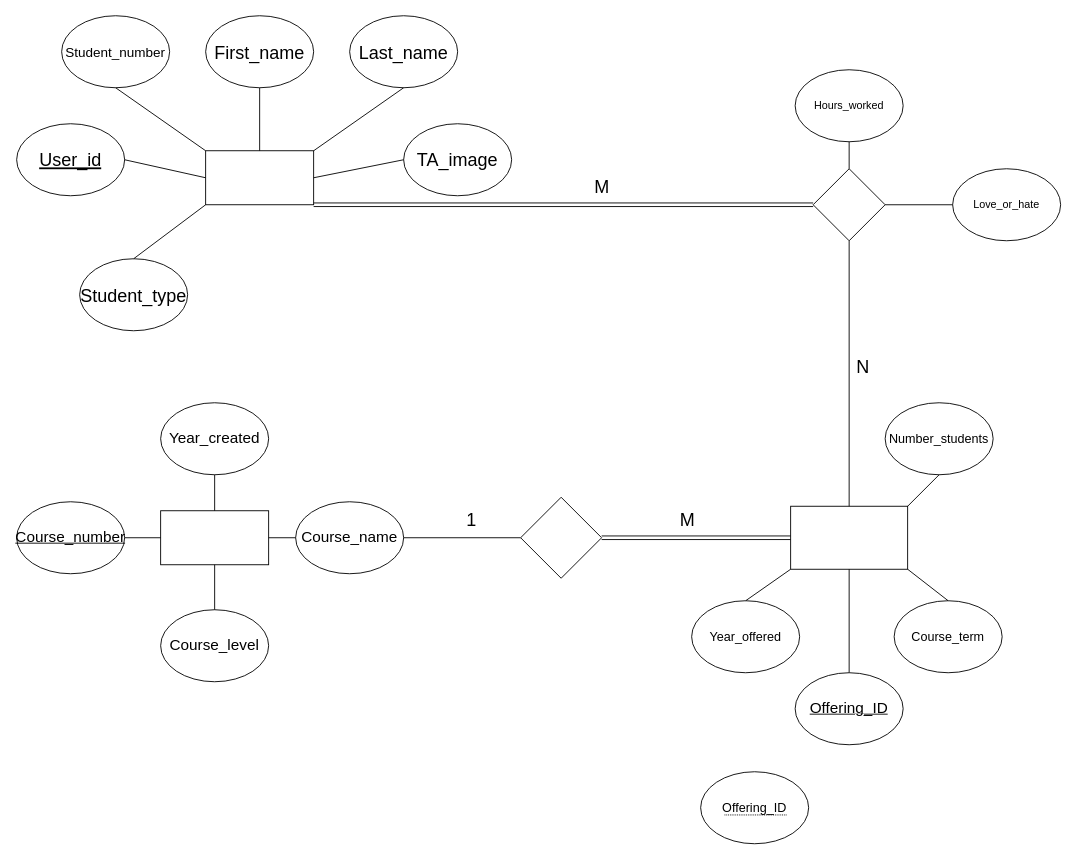
The diagram is 1076 pixels wide and 860 high, and some of its shapes have lost their labels. Each missing label, with the box of its shape:
Course: (160, 510, 269, 565)
Course Offering: (790, 505, 908, 569)
Instance of: (520, 496, 602, 578)
Teaching Assistant: (205, 150, 314, 205)
Worked on: (812, 168, 885, 241)
